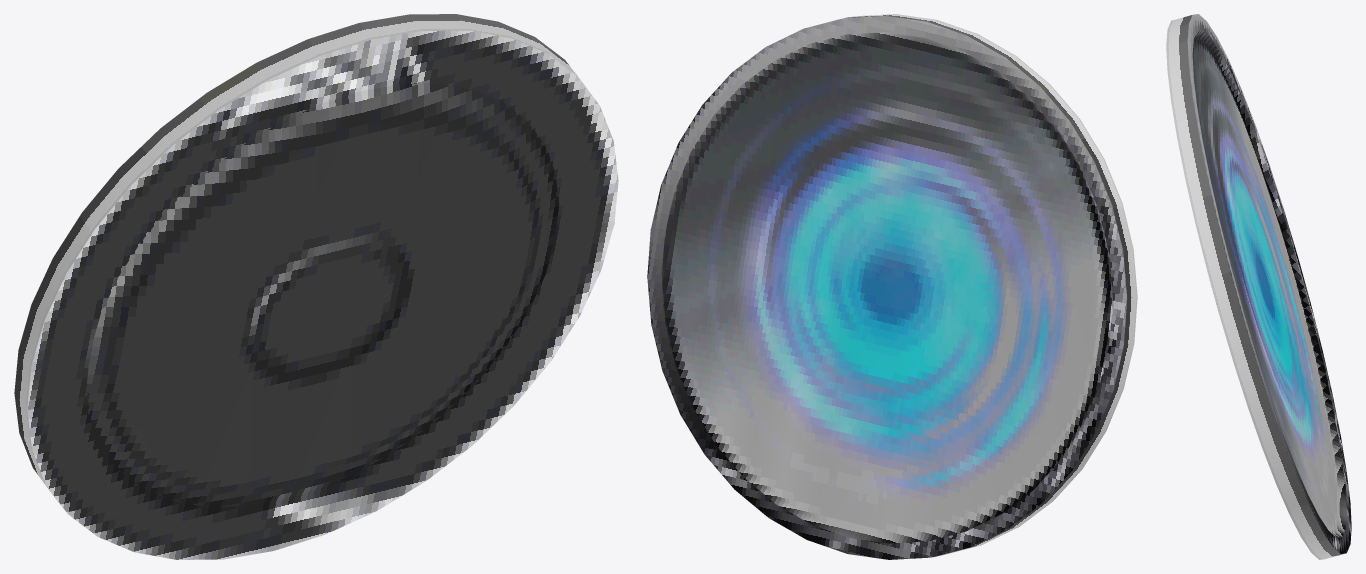
The model's file is ps2_save-icons_soukokunokusabihiironokakera3.glb.
The picture shows the model from 3 angles, left to right: view 1: azimuth 30°, elevation 25°; view 2: azimuth 150°, elevation 25°; view 3: azimuth 270°, elevation 25°; orthographic projection. The views are drawn at different scales.
Parts seen in each view (by area): view 1: SAVE.ICO; view 2: SAVE.ICO; view 3: SAVE.ICO.
Boxes of the visible parts, x1,y1,x2,y2 form: SAVE.ICO: [14, 14, 618, 559]; SAVE.ICO: [647, 14, 1137, 559]; SAVE.ICO: [1166, 14, 1351, 559].
Bounding box in the file's own units: 3.33 × 3.23 × 1.1.
Materials: 1 (1 with a texture image).
